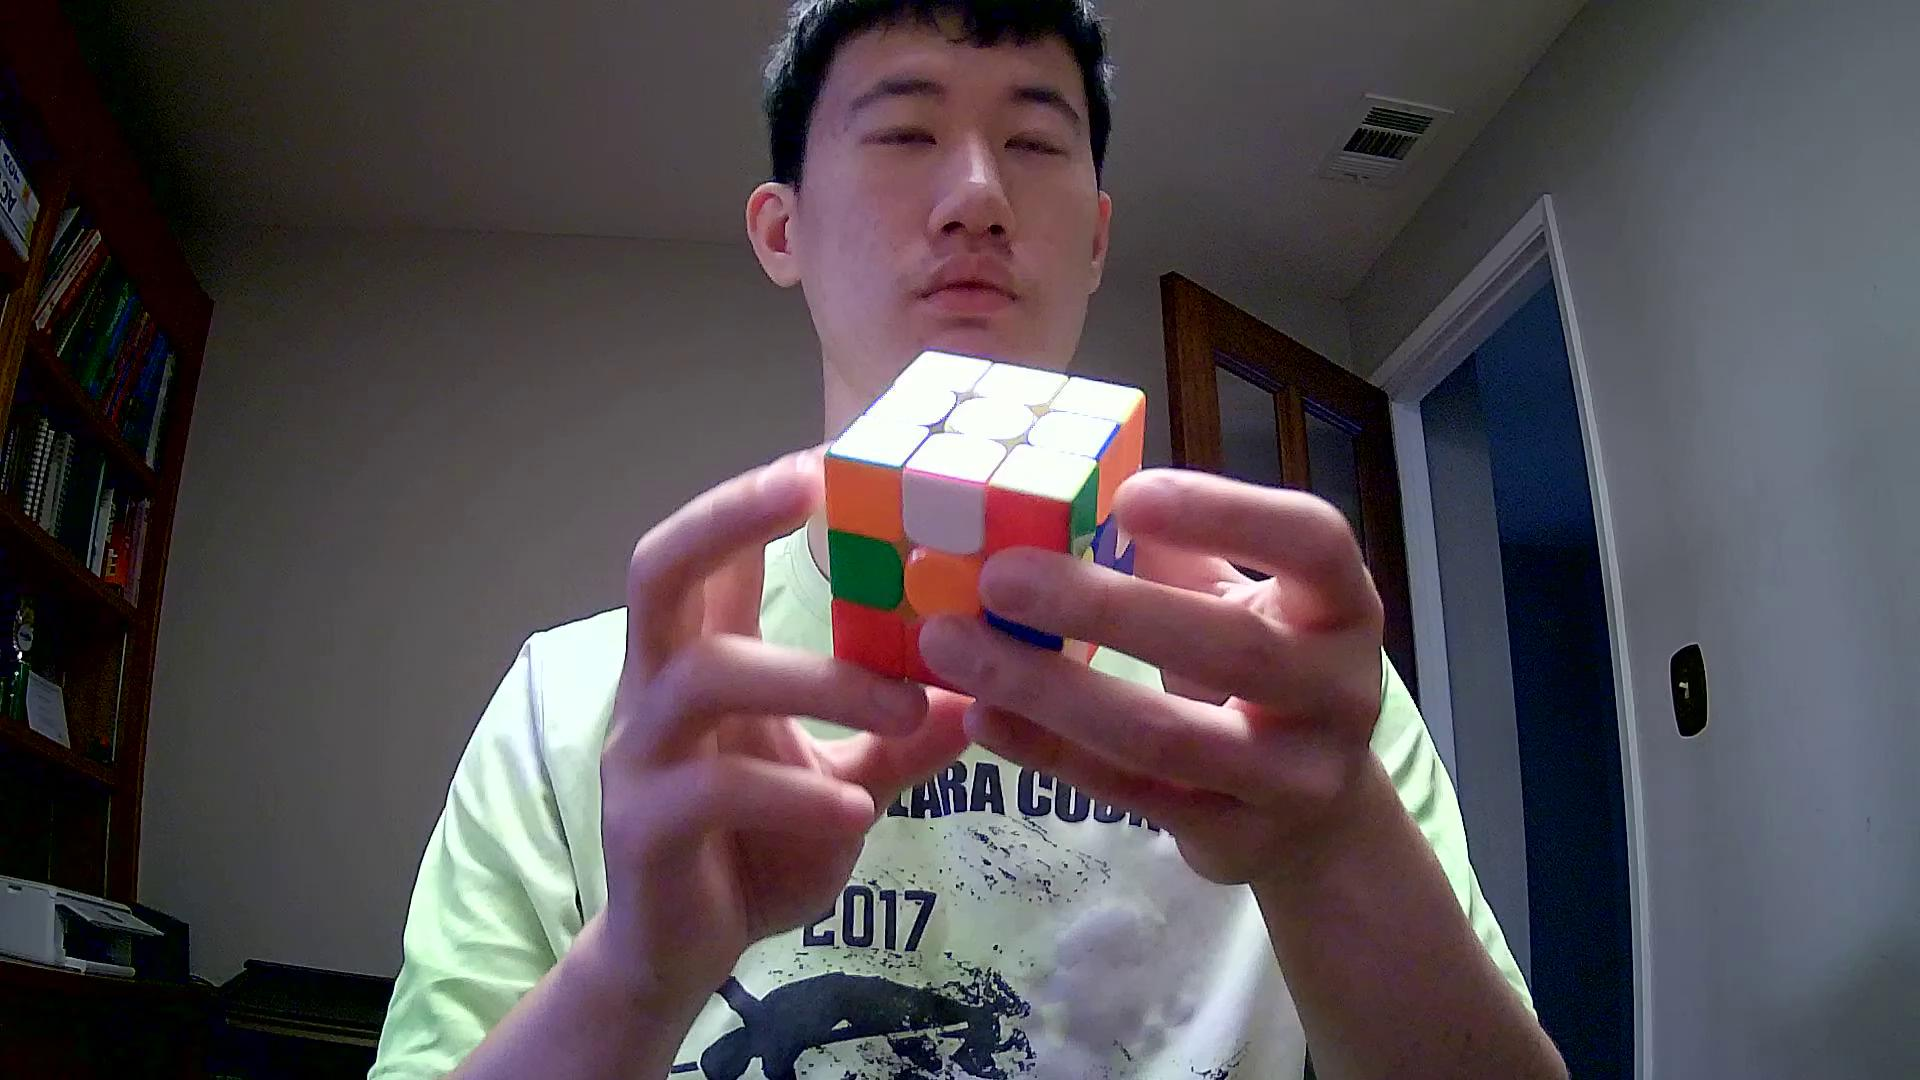Rubiks-Cube: (831, 344, 1153, 692)
